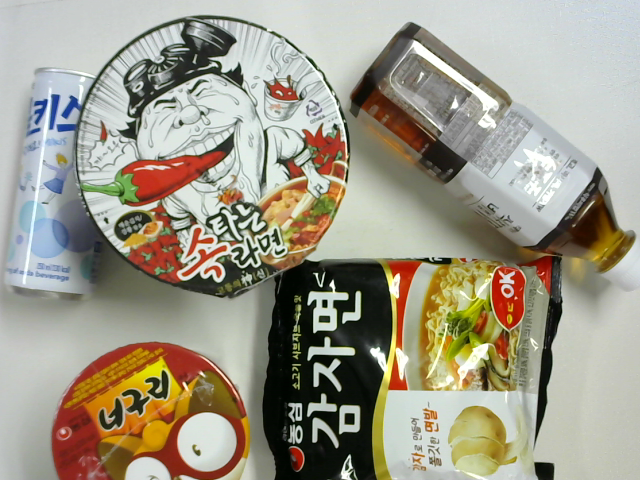HeJangsock: (75, 10, 343, 300)
Milkies_250ml: (11, 64, 113, 300)
Post-meal_recipe_W_tea_500ml: (351, 18, 639, 286)
Potato: (273, 258, 554, 480)
Raccoon: (47, 346, 252, 480)
